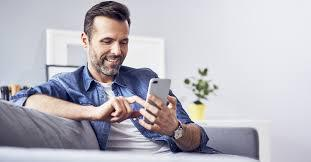0: (94, 27, 127, 73)
Hand: (139, 96, 177, 132), (101, 98, 147, 123)
Smartphone: (142, 78, 172, 125)
